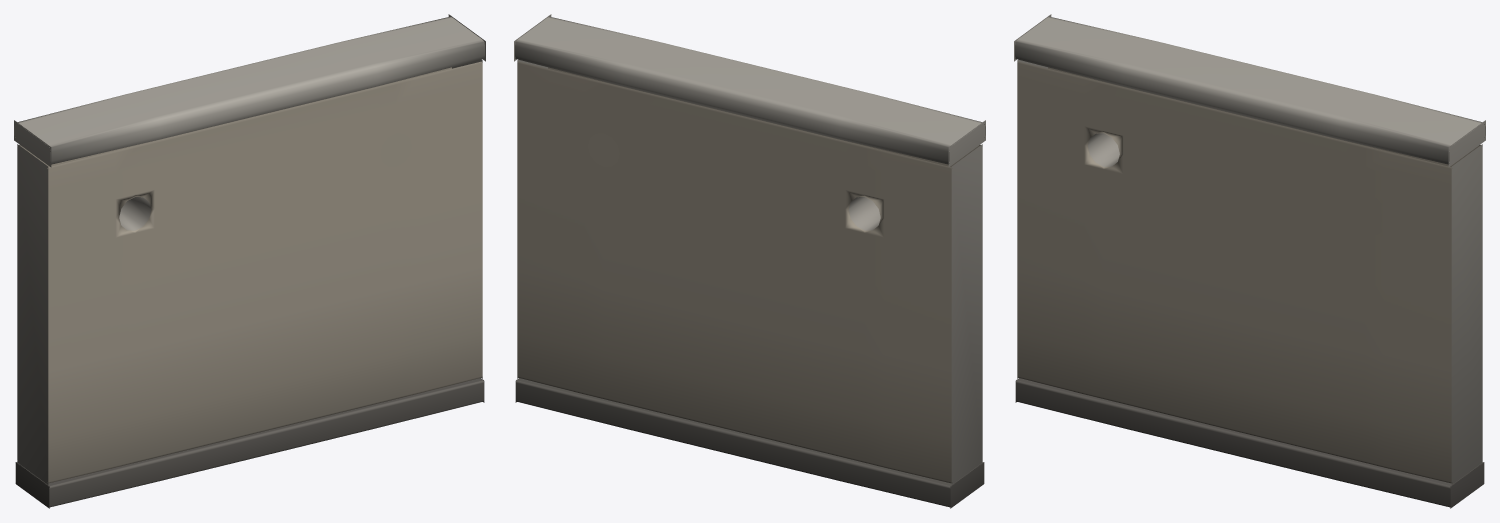
Rendered from BlockWall2.fbx.
3 renders of one model, left to right at view 1: azimuth 30°, elevation 25°; view 2: azimuth 150°, elevation 25°; view 3: azimuth 330°, elevation 25°, orthographic.
Visible parts, largest first — view 1: BlockWall2; view 2: BlockWall2; view 3: BlockWall2.
Boxes of the visible parts, box(x1,y1,x2,y2) form: BlockWall2: box(14, 14, 485, 508); BlockWall2: box(514, 14, 985, 508); BlockWall2: box(1014, 14, 1485, 508).
Bounding box in the file's own units: 2 × 1.6 × 0.304.
